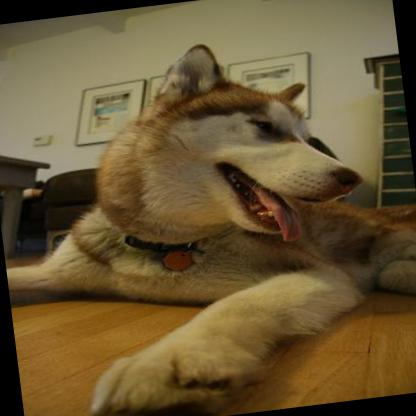Eskimo_dog: (0, 26, 385, 416)
